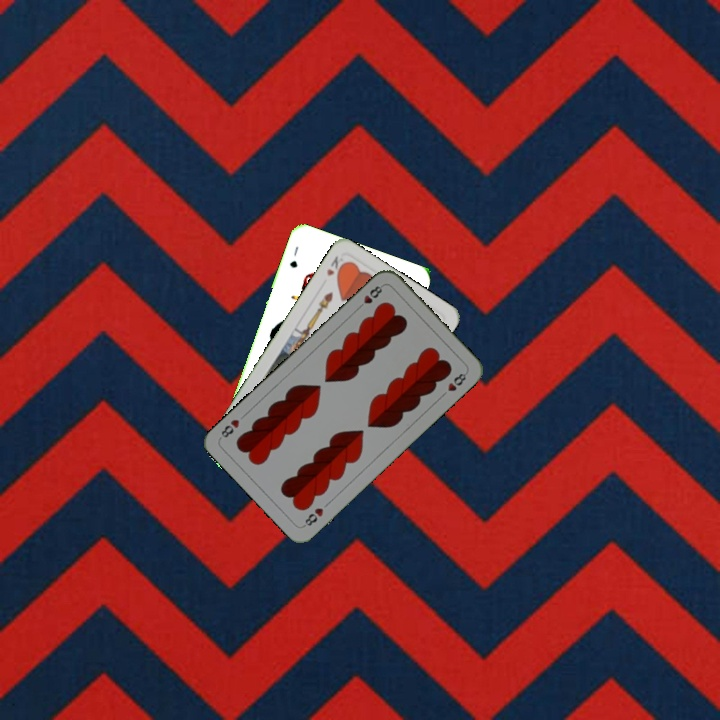GU: (285, 242, 301, 270)
H8: (353, 281, 385, 312), (299, 504, 326, 530)
HK: (322, 252, 348, 280)
